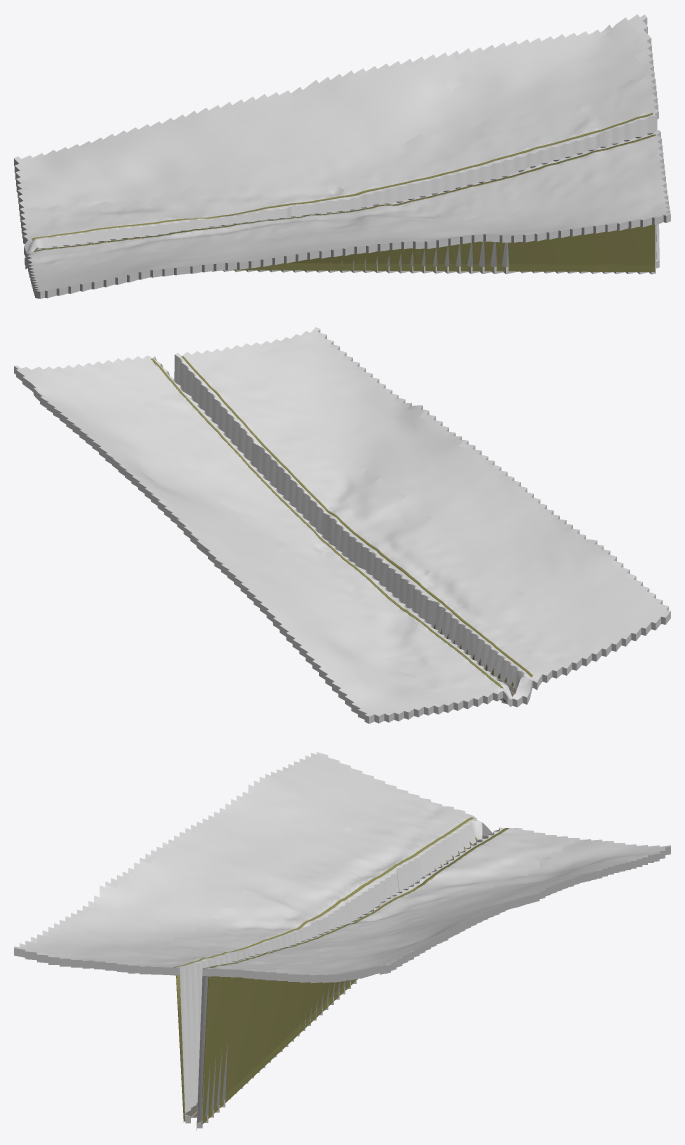
File: conz_95.glb
3 renders of one model, top to bottom at view 1: azimuth 30°, elevation 25°; view 2: azimuth 150°, elevation 25°; view 3: azimuth 270°, elevation 25°, orthographic. The views are drawn at different scales.
Parts seen in each view (by area): view 1: terrain95, verge95R, verge95L; view 2: terrain95, verge95R, verge95L; view 3: terrain95, verge95L, verge95R.
Part boxes in pixels (x1=…): terrain95: x1=14, y1=14, x2=670, y2=298; verge95R: x1=34, y1=134, x2=655, y2=271; verge95L: x1=31, y1=113, x2=652, y2=240; terrain95: x1=14, y1=327, x2=670, y2=723; verge95R: x1=181, y1=356, x2=532, y2=686; verge95L: x1=151, y1=358, x2=506, y2=702; terrain95: x1=14, y1=752, x2=670, y2=1130; verge95L: x1=201, y1=828, x2=509, y2=1125; verge95R: x1=173, y1=817, x2=477, y2=1121.
Bounding box in the file's own units: 276 × 75.67 × 230.
